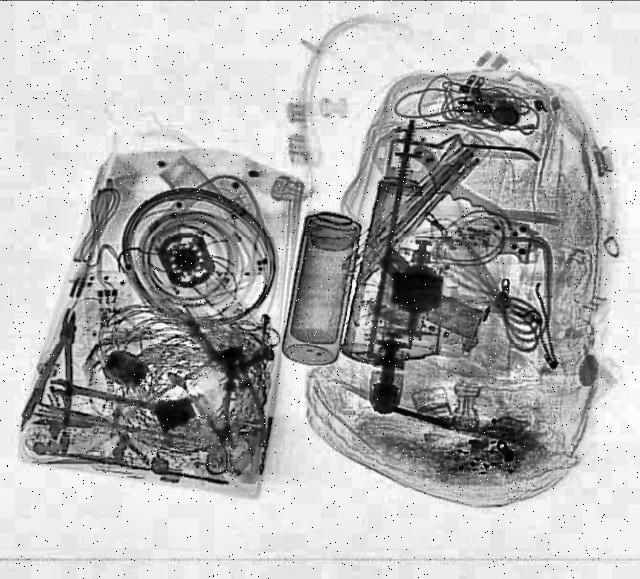Pliers: (21, 306, 94, 430), (208, 338, 268, 450)
Wrench: (46, 378, 172, 424)
